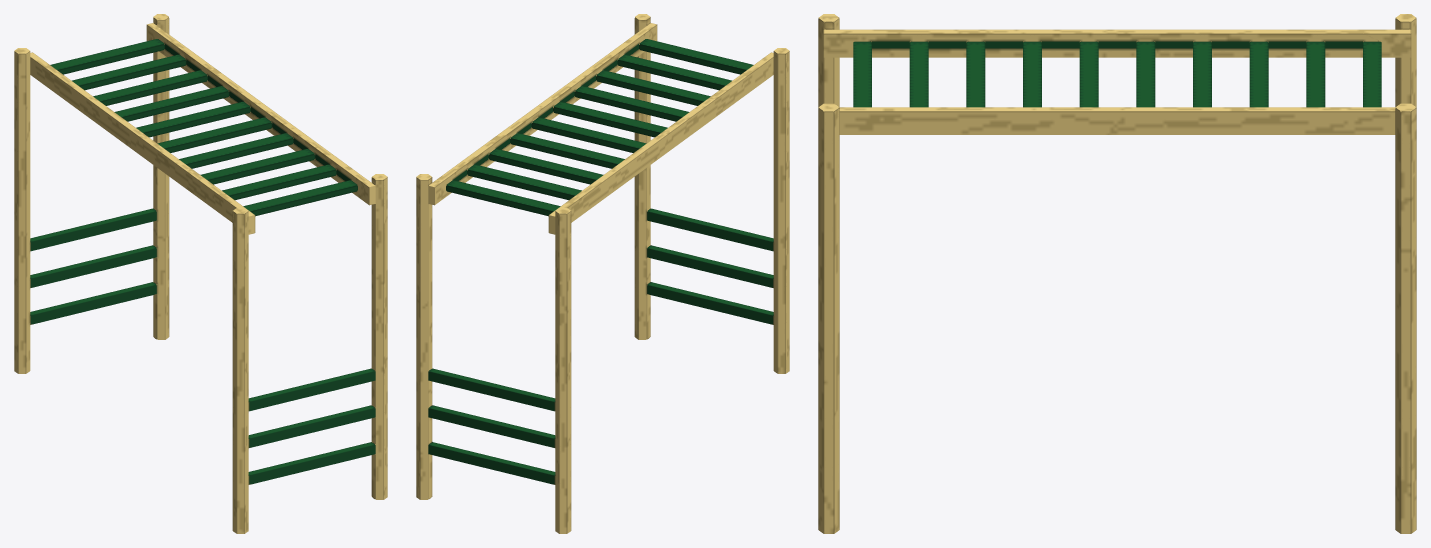
Rendered from MonkeyBars.fbx.
3 views of the same model, side by side, from view 1: azimuth 30°, elevation 25°; view 2: azimuth 150°, elevation 25°; view 3: azimuth 270°, elevation 25° (orthographic). The views are drawn at different scales.
Visible parts, largest first — view 1: MonkeyBars; view 2: MonkeyBars; view 3: MonkeyBars.
Boxes of the visible parts, x1,y1,x2,y2 form: MonkeyBars: (14, 14, 387, 533); MonkeyBars: (416, 14, 789, 533); MonkeyBars: (818, 14, 1416, 533).
Size of the model in its own units: 203 by 412 by 528.
Materials: 1 (1 with a texture image).
